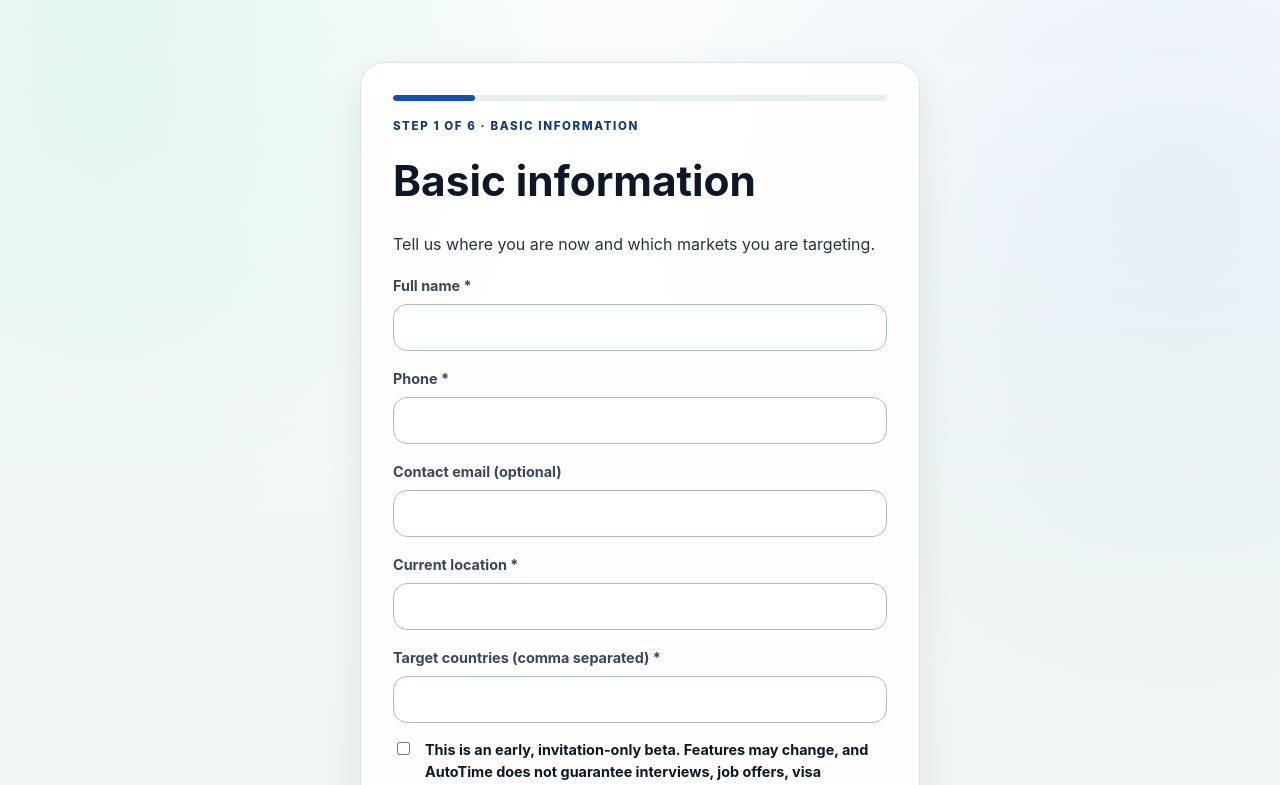
it: OnboardingWizard - step 0 (basic information + beta terms) › rejects an invalid full name (digits) and does not advance
This screenshot has width=1280, height=785.
Type "12345" into the field labelled "Full name *".
click(640, 328); type("12345")  # box [393,304,887,351]
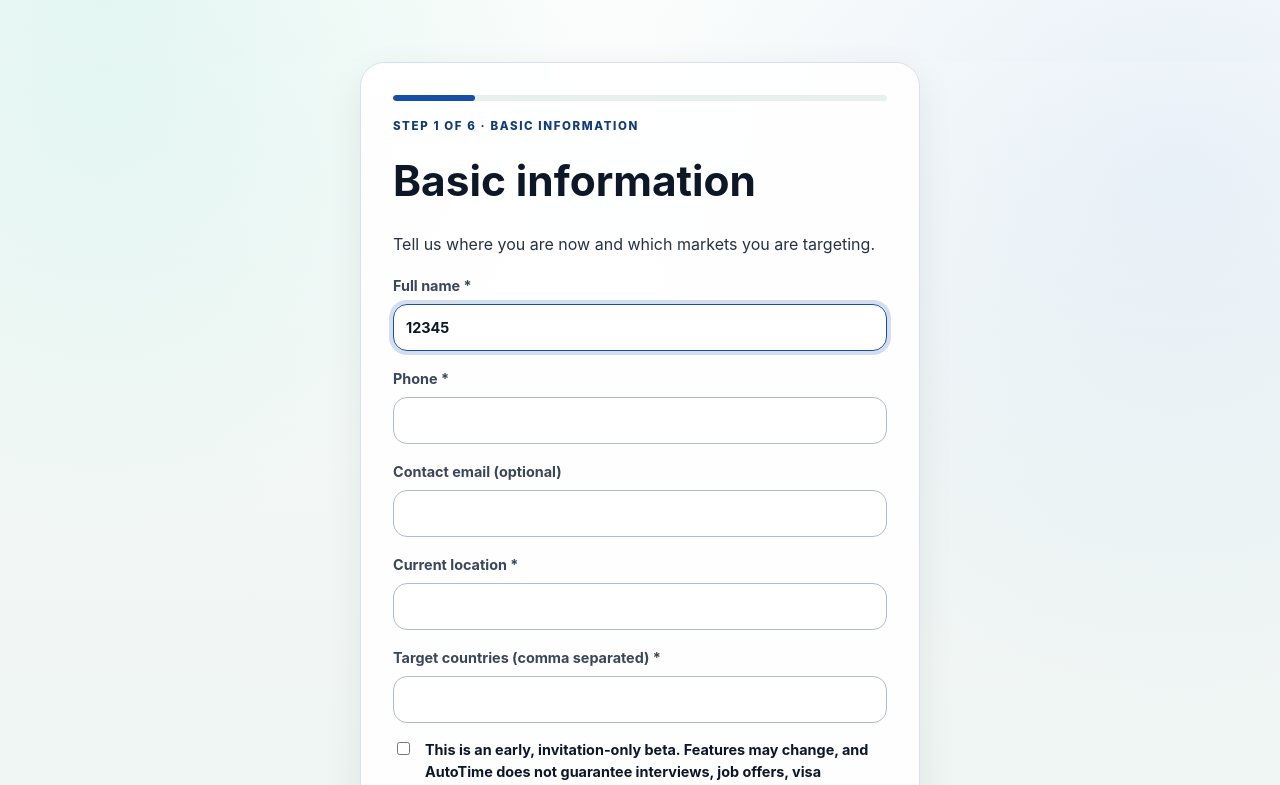
Type "+44 7700 900000" into the field labelled "Phone *".
click(640, 421); type("+44 7700 900000")  # box [393,397,887,444]
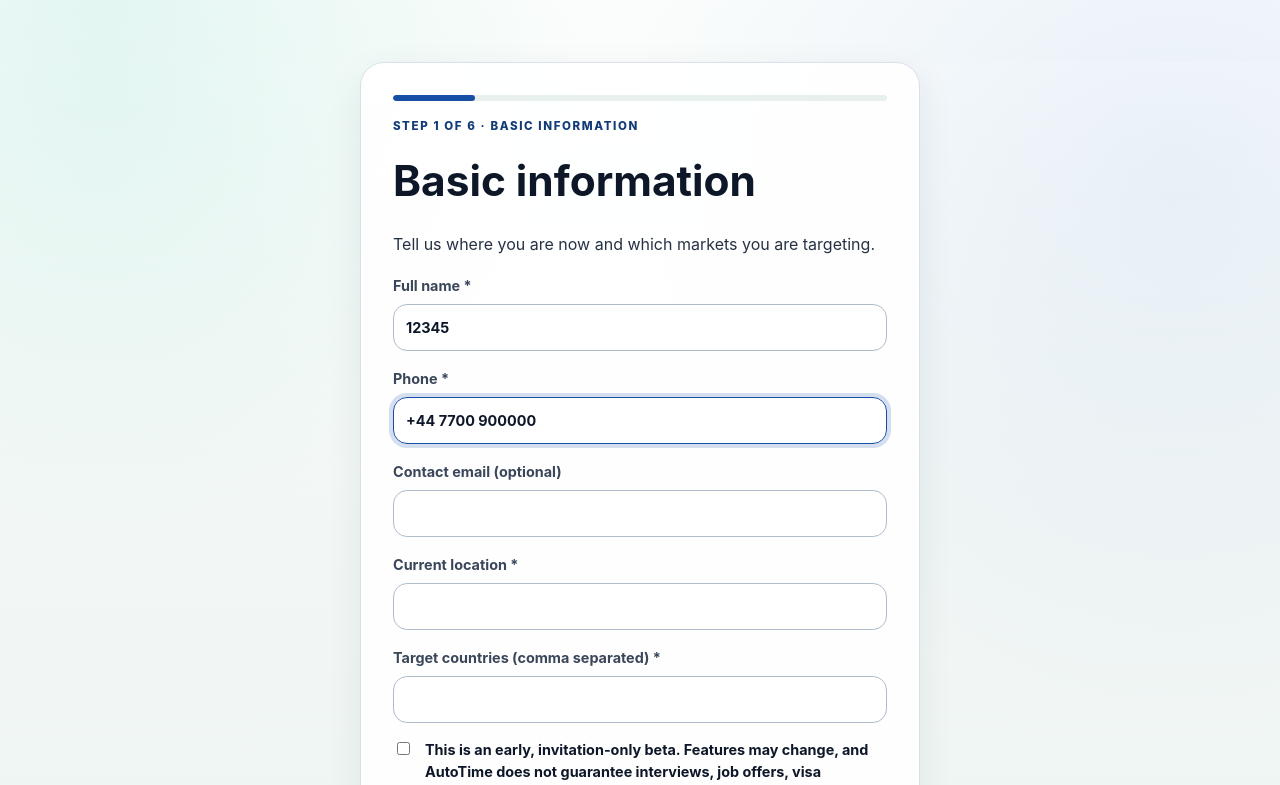
Type "London" into the field labelled "Current location *".
click(640, 607); type("London")  # box [393,583,887,630]
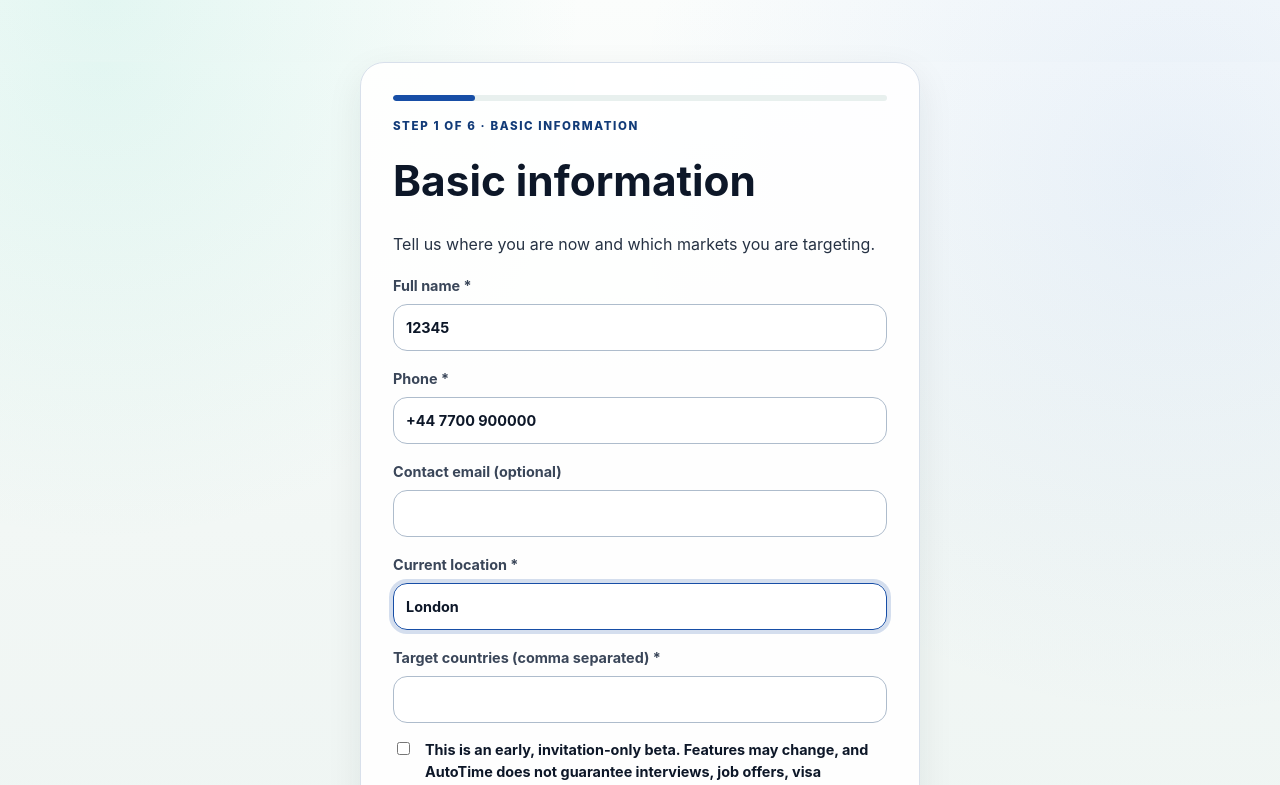
Type "Germany" into the field labelled "Target countries (comma separated) *".
click(640, 700); type("Germany")  # box [393,676,887,723]
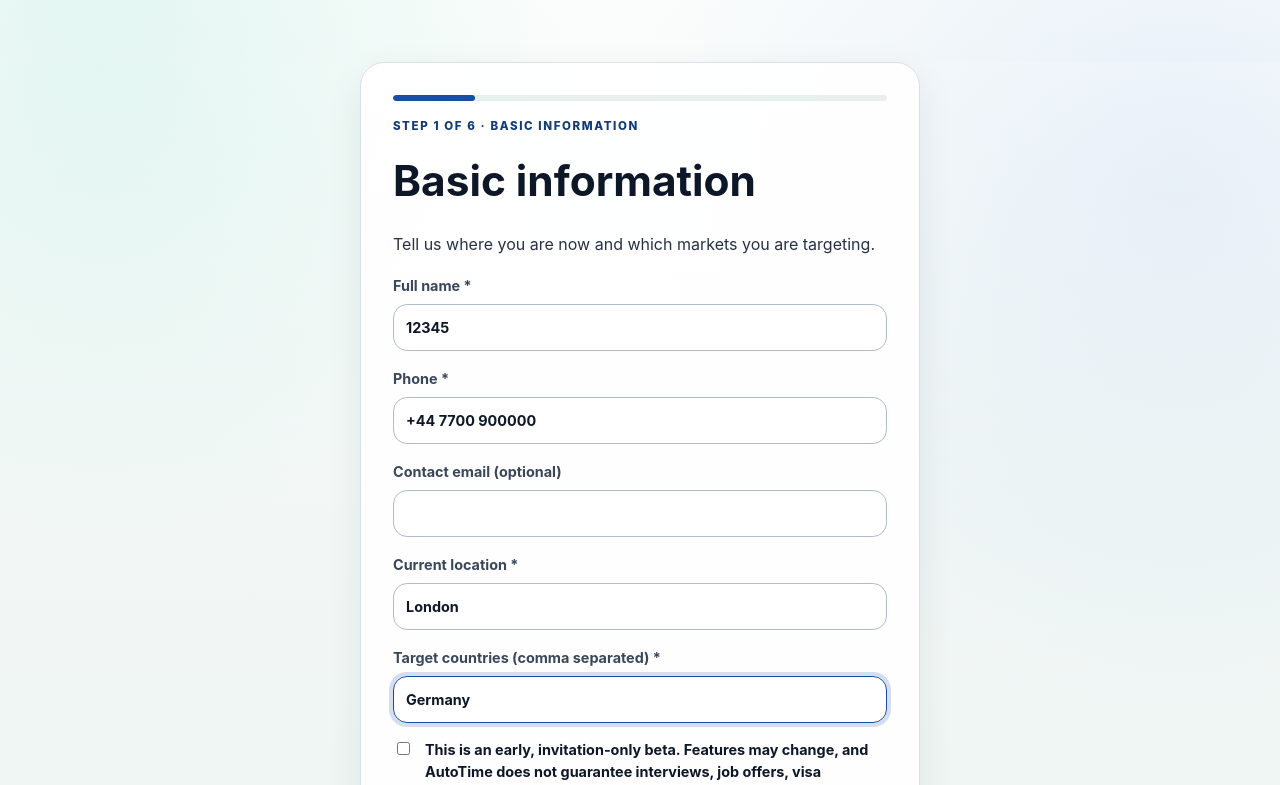
Click the checkbox.
click(404, 749)  # box [397,742,410,755]
(page scrolled)
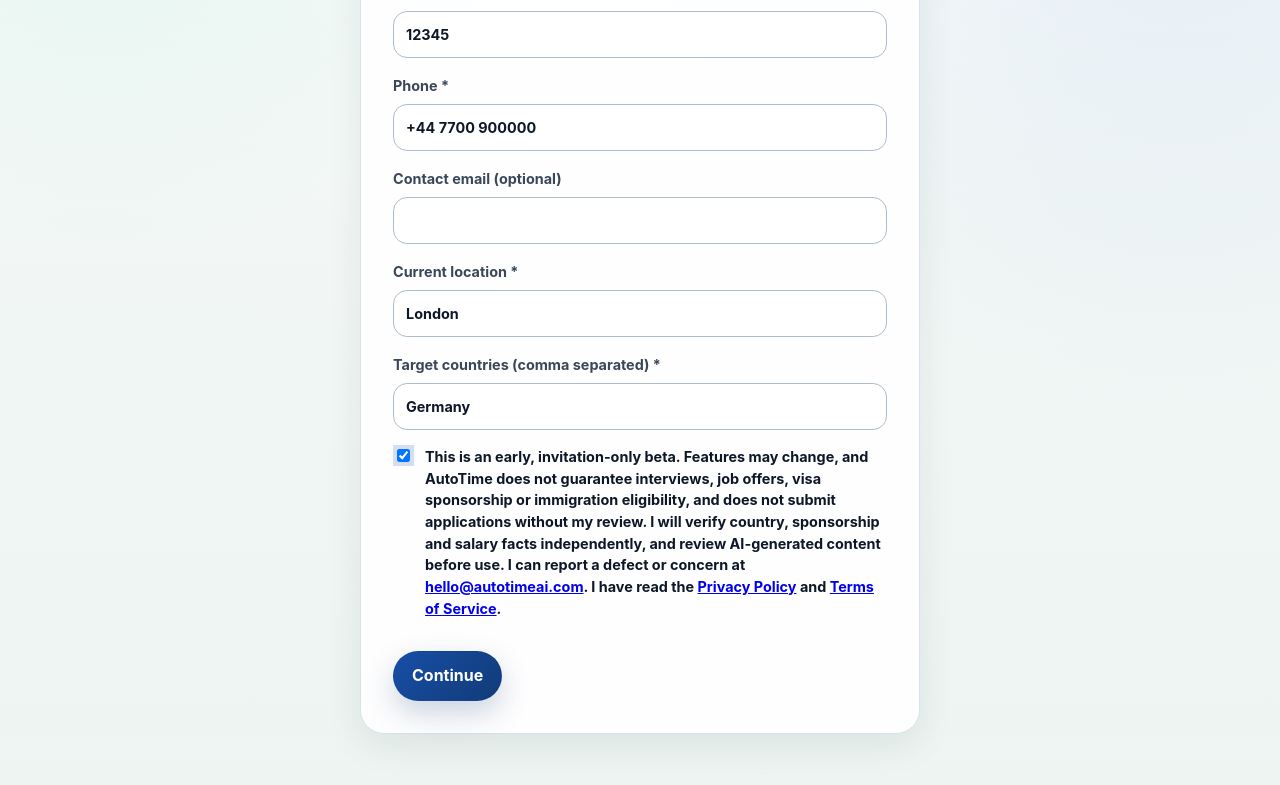
Click the button "Continue".
click(448, 676)  # box [393,651,502,701]
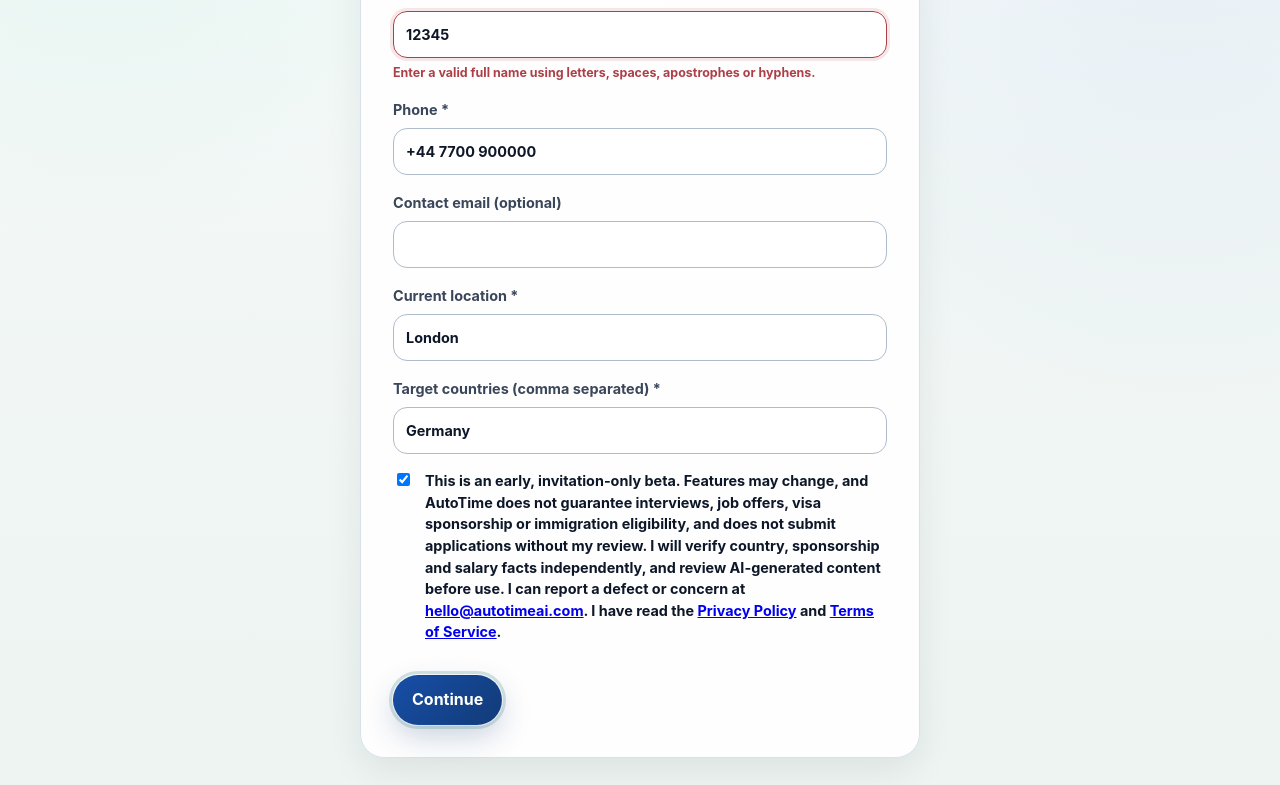
Expected: the text "Enter a valid full name using letters" is shown, [393,65,816,80]
